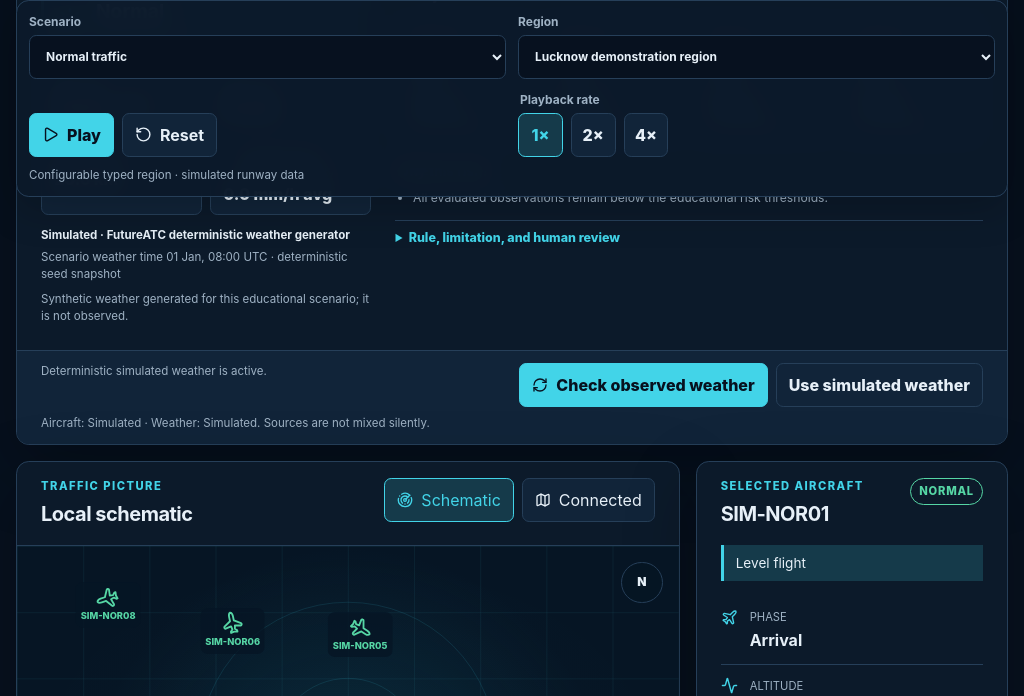
Test case: weather provider integration › recovers when browser storage access throws
(page scrolled)
Click the button "Check observed weather" at (644,385), box [519,363,768,407]
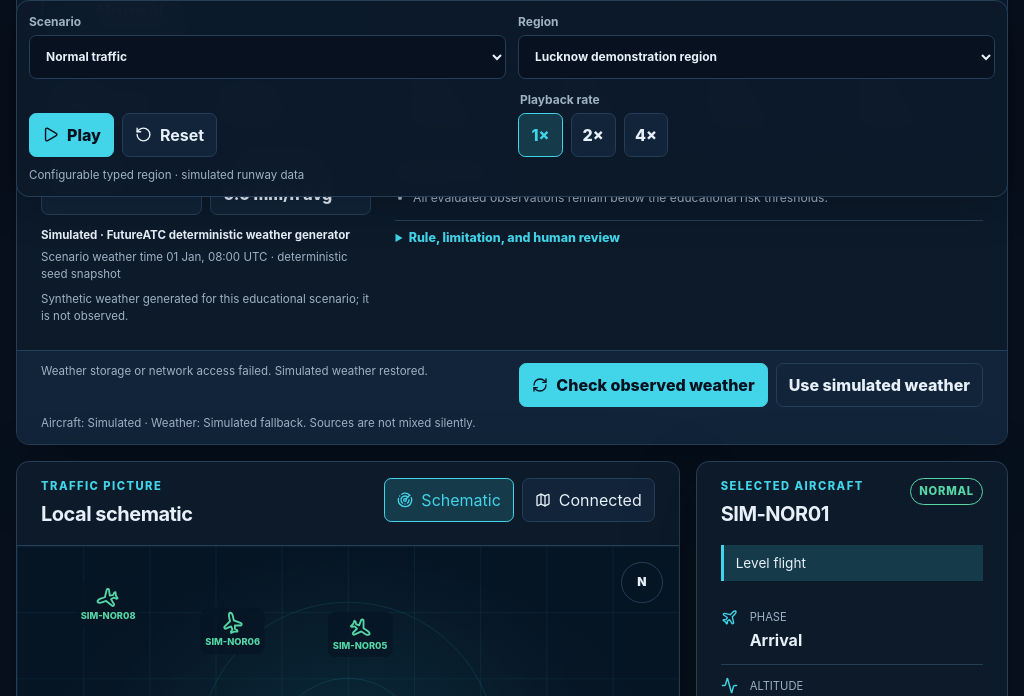
Expected: the text "Weather storage or network access failed. Simulated weather restored." is shown, [41,364,428,378]
